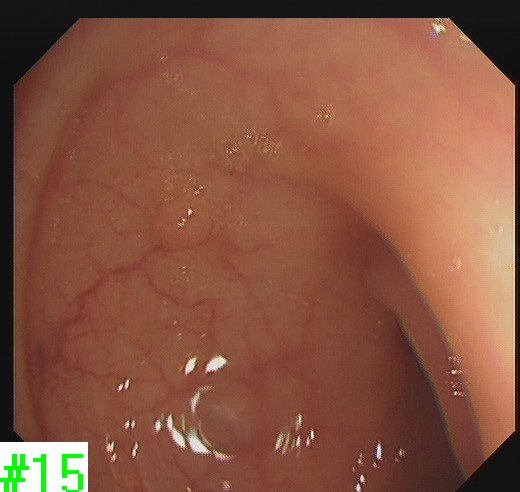adenoma: (144, 193, 217, 250)
